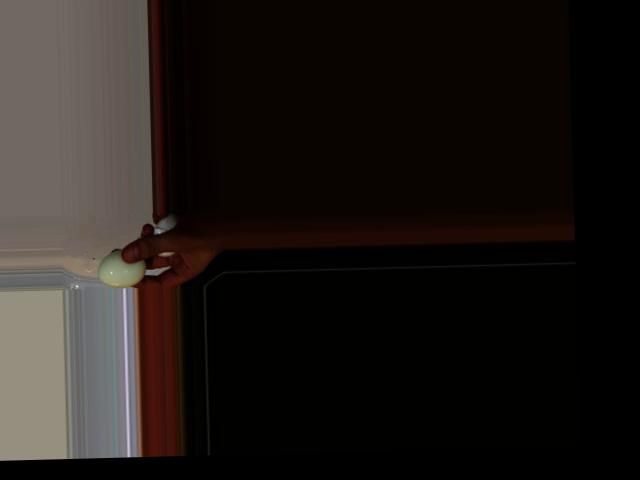egg: (97, 248, 146, 288)
